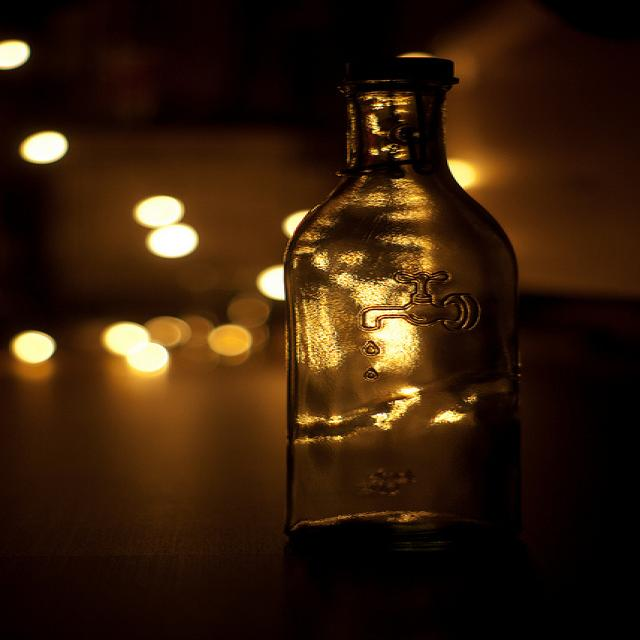Bottle: (281, 48, 550, 590)
